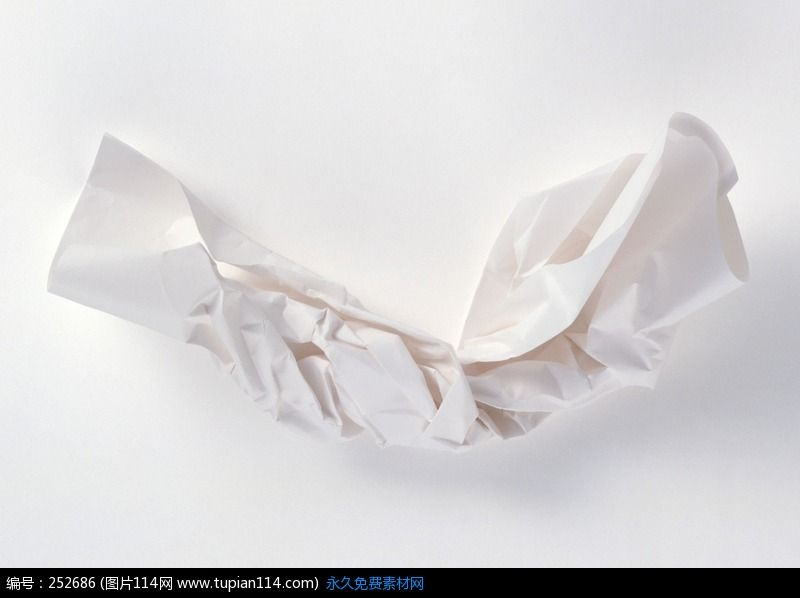flexible: (37, 111, 761, 456)
